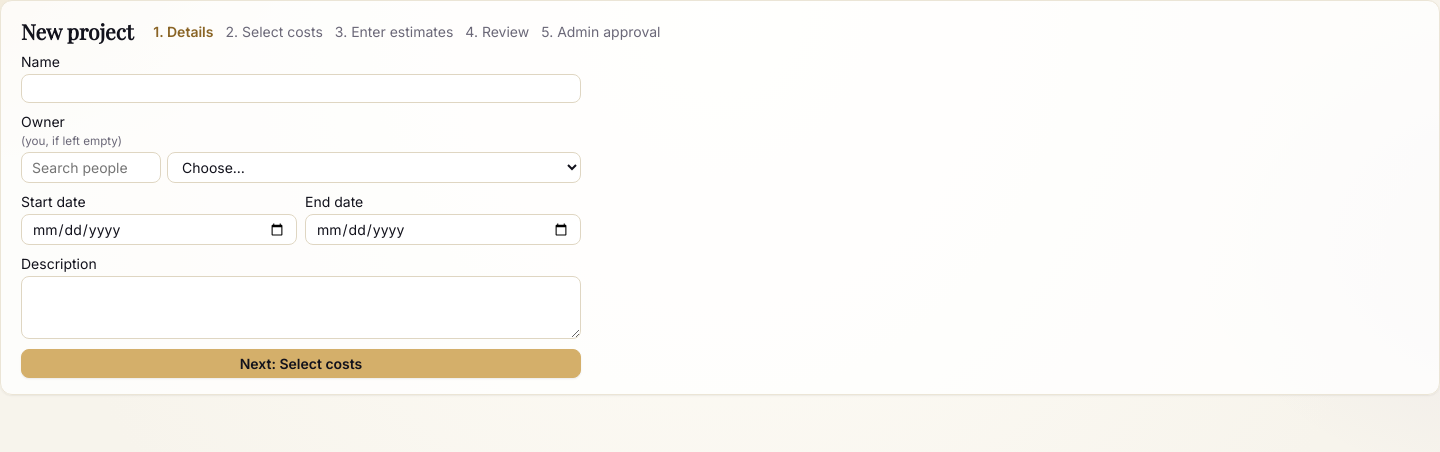
Test case: validation messages › shows the field message, not just "Invalid input"
Type "Y" into the field labelled "Name" at (301, 88), box [21,74,581,103]
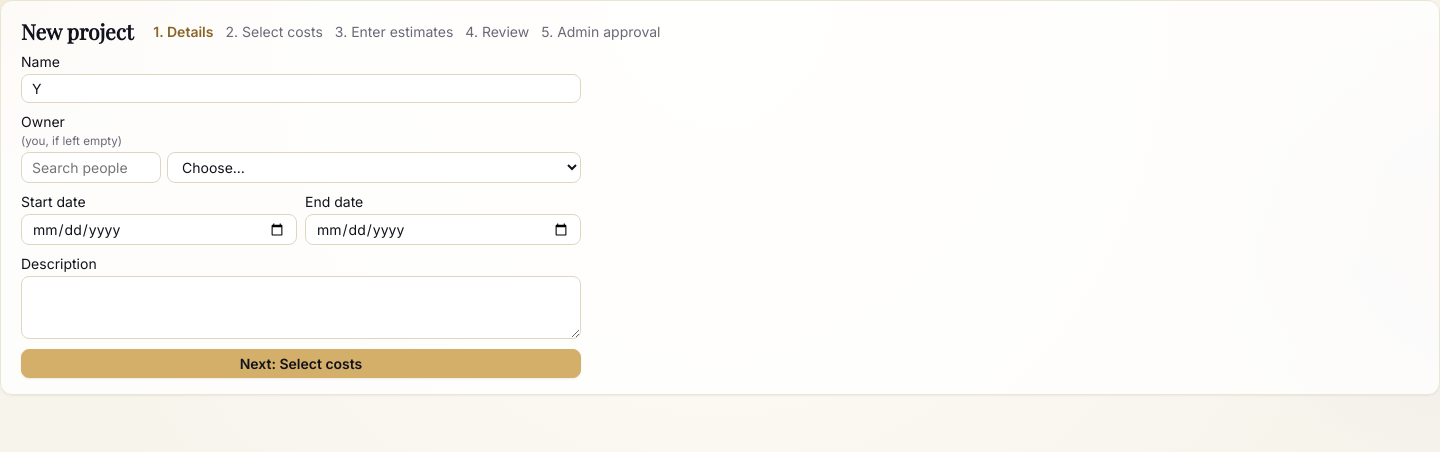
Click the button "Next: Select costs" at (301, 364), box [21,349,581,378]
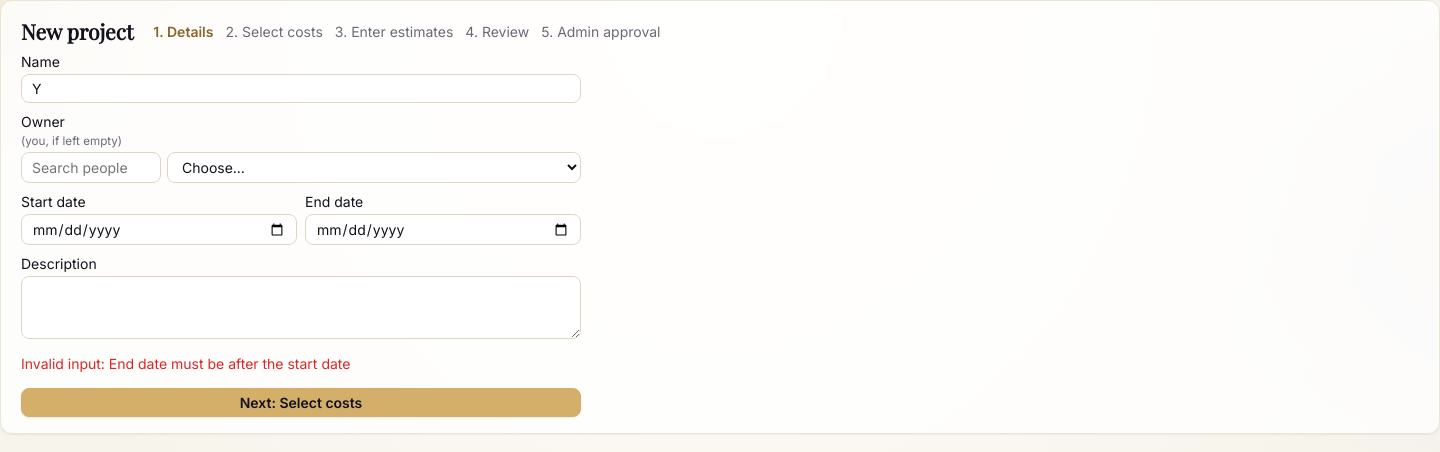
Now the message reads "Invalid input: End date must be after the start date", box [21,355,350,372]
